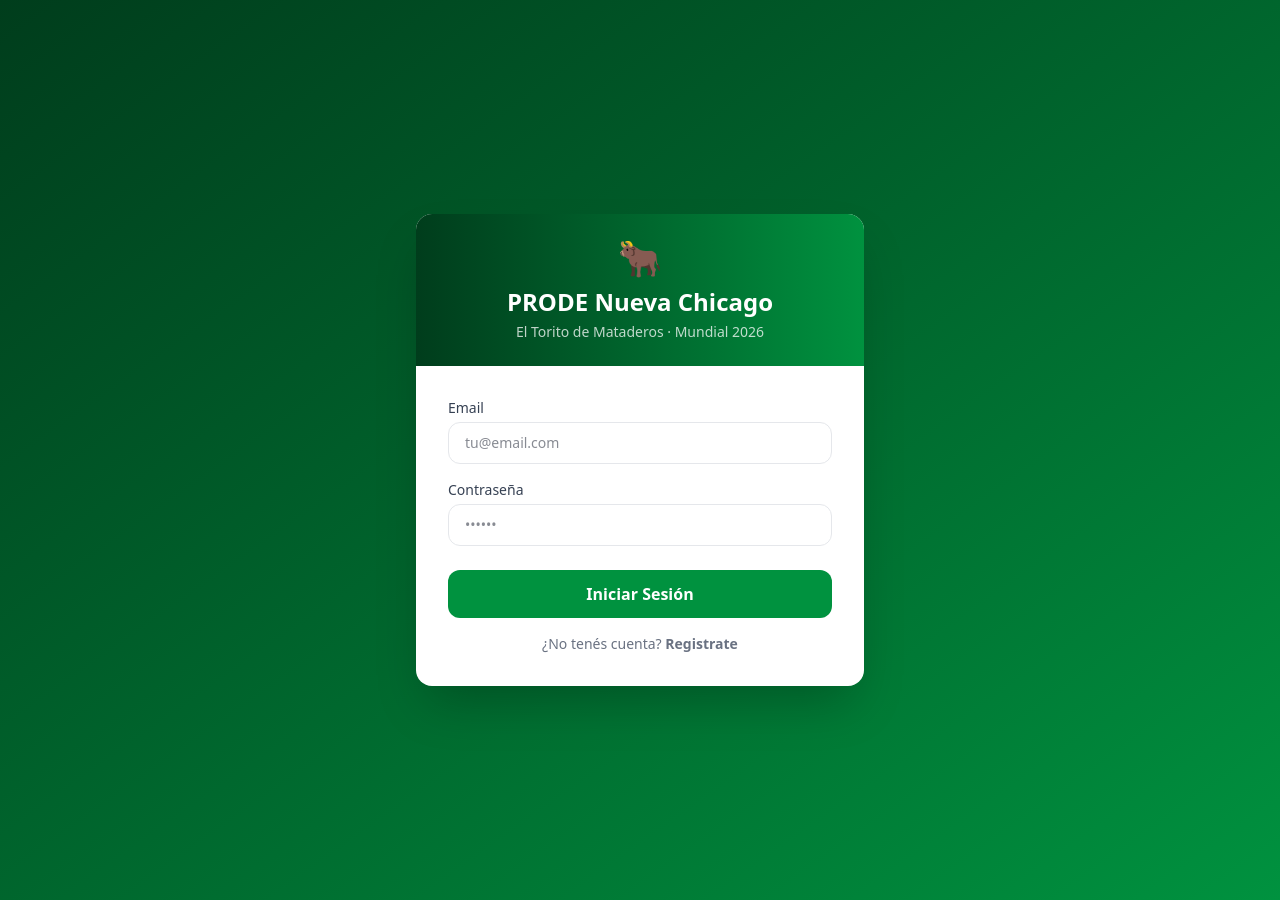
Test: Login › botón se deshabilita durante el submit
Type "test@test.com" into the field with placeholder "tu@email.com" at (640, 443), box 448,422 -> 832,464
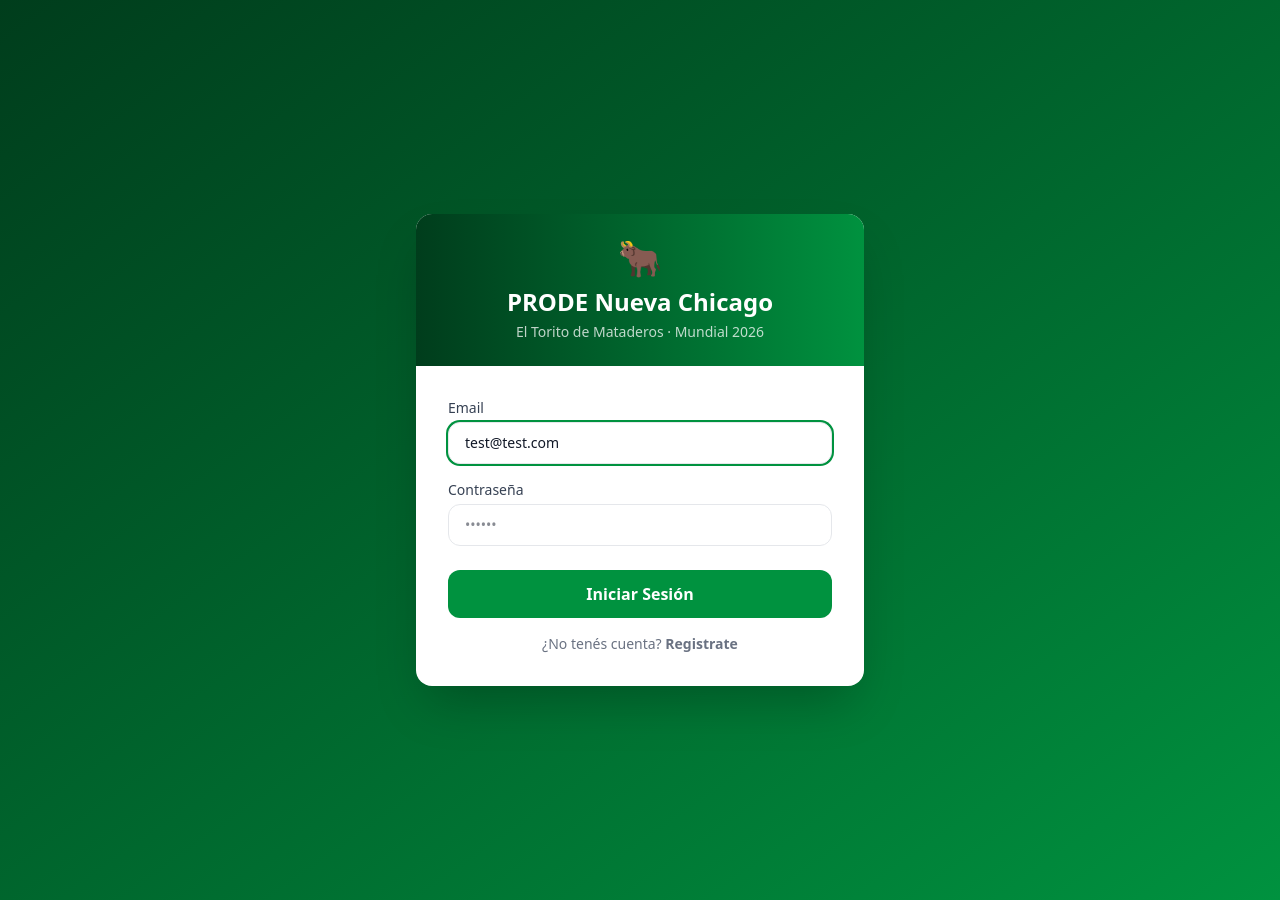
Type "pass" into the password field with placeholder "••••••" at (640, 525), box 448,504 -> 832,546
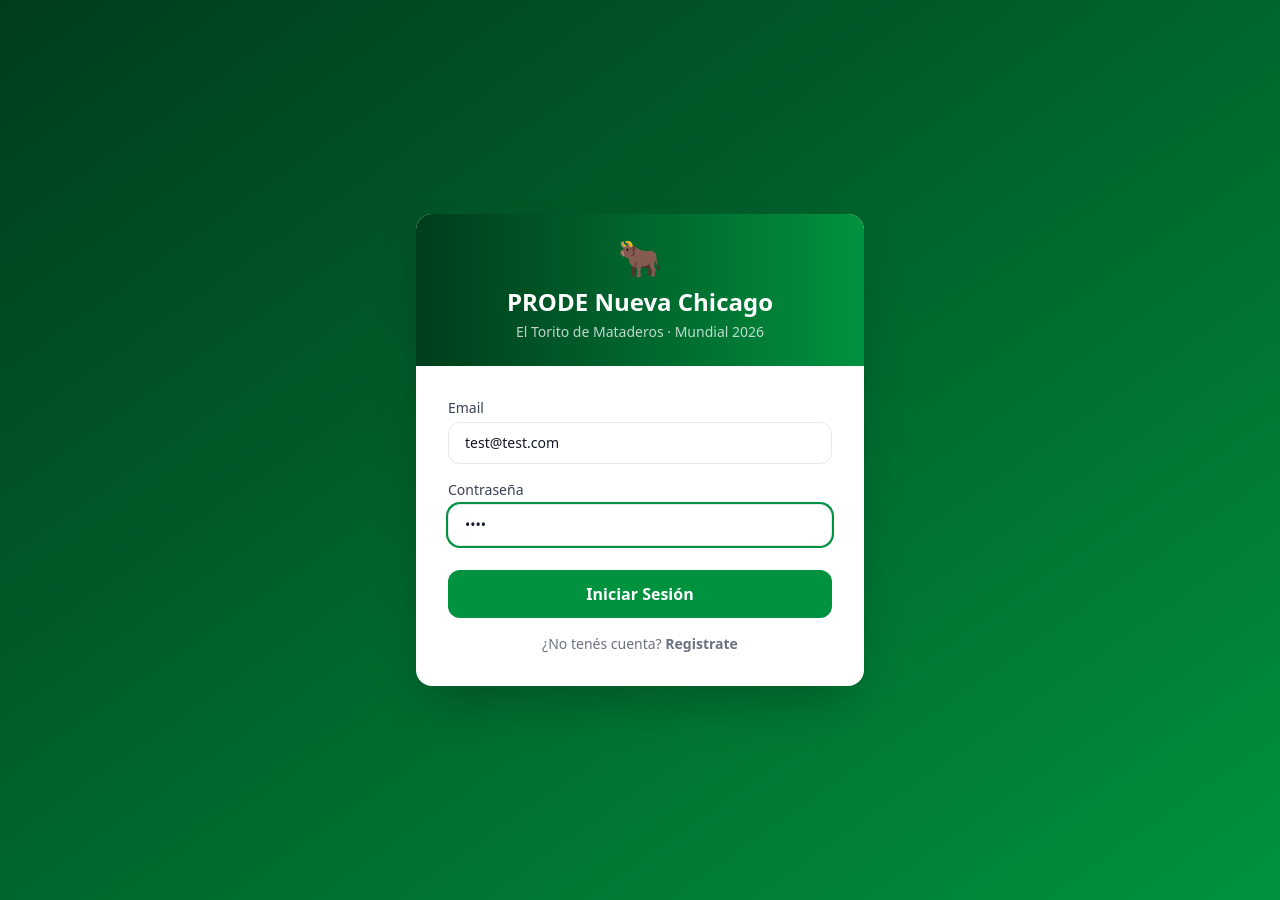
Click the button "Iniciar Sesión" at (640, 594), box 448,570 -> 832,618
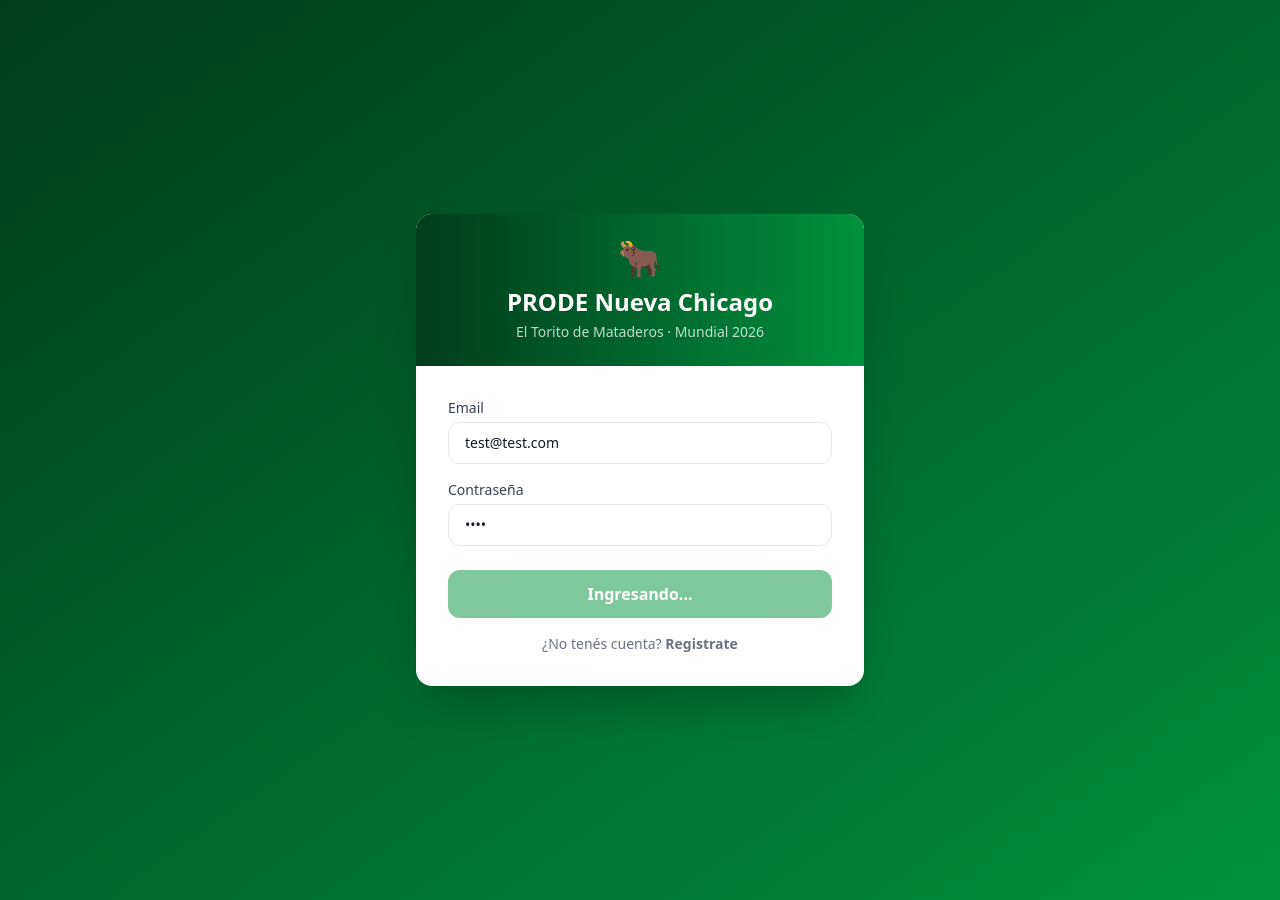
Expected: the button "Ingresando..." is disabled, 448,570 -> 832,618
